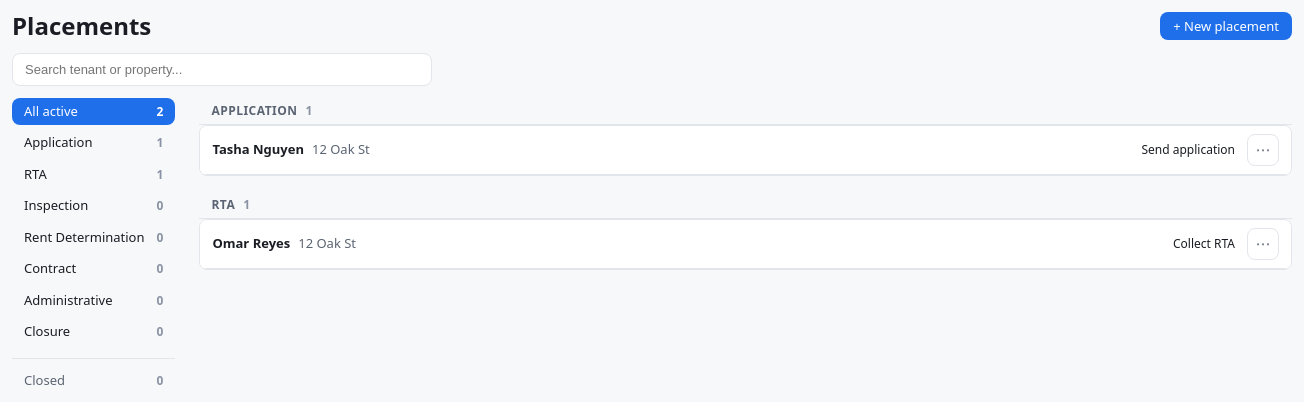
Scenario: PlacementsPage › search narrows rows within the current filter
The image size is (1304, 402).
Type "omar" into the search field named "Search placements" at (222, 69), box top-left (12, 53), bottom-right (432, 86)
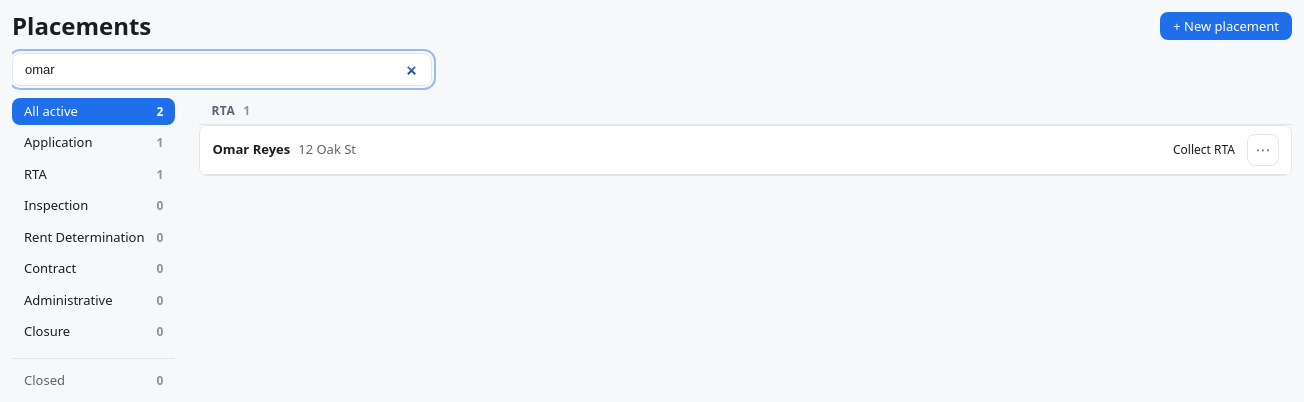
Check: the link named "Omar Reyes" is shown, box top-left (200, 126), bottom-right (1291, 174)
Check: the text "Tasha Nguyen" is gone
